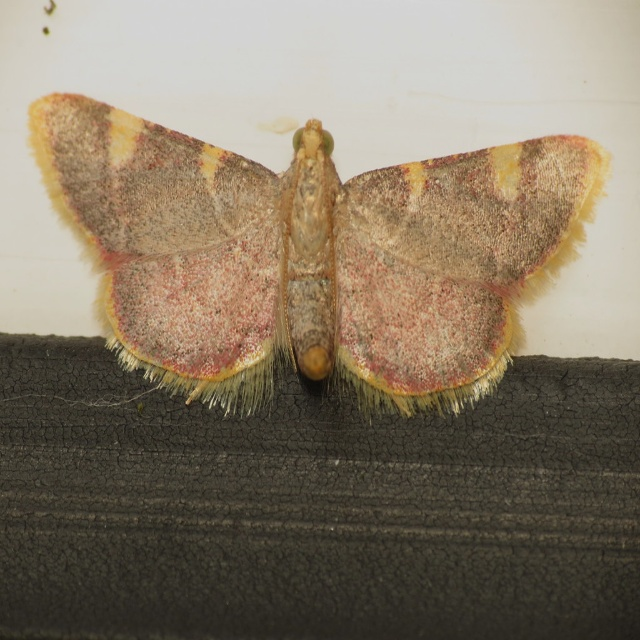Butterfly: (27, 92, 612, 418)
